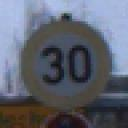speed_limit_30: (18, 17, 114, 113)
